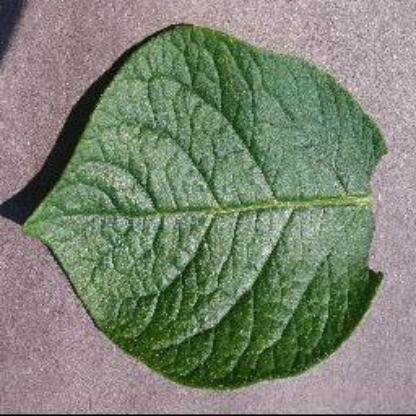Healthy-plant: (8, 19, 396, 393)
